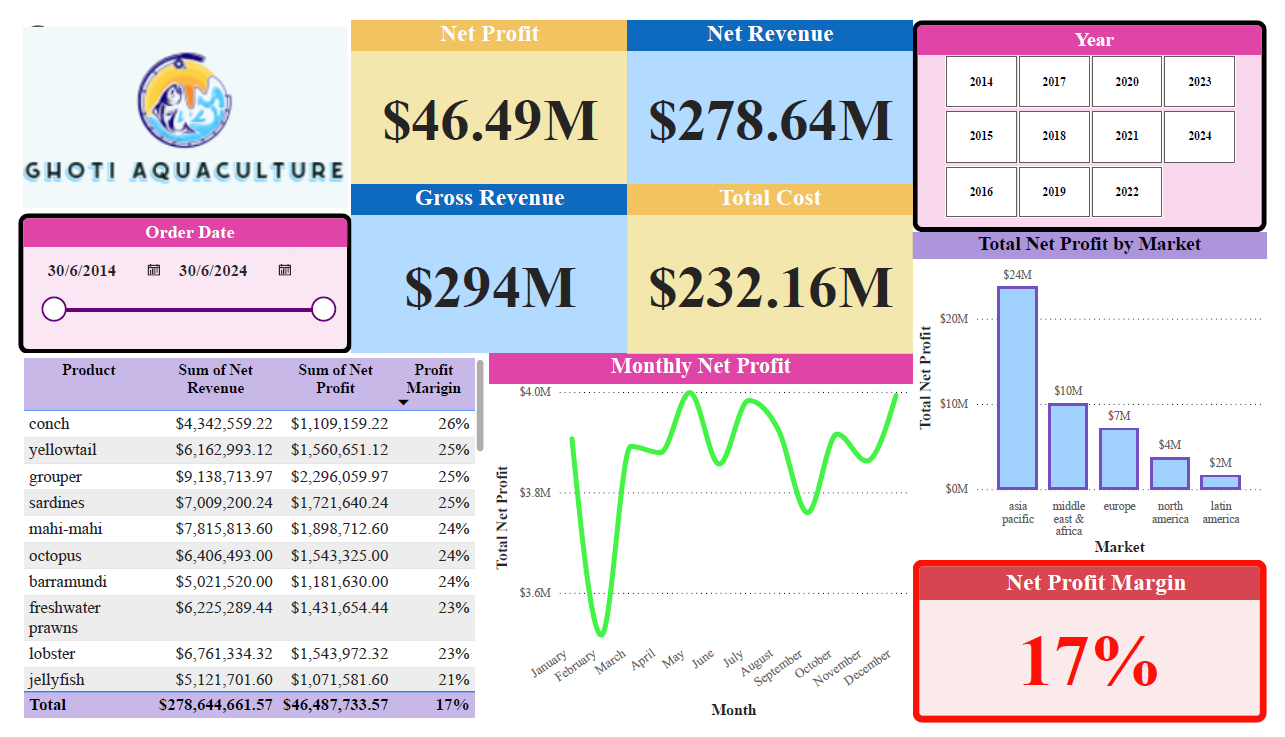

This screenshot's page, from the dashboard's own definition file:
{"tool":"powerbi","page":{"name":"Sales Performance","canvas":[1280,720],"ordinal":1},"visuals":[{"type":"slicer","title":"Order Date","fields":{"Values":["OrderDate.Date"]},"box":[0,198.3,341.7,143.3],"z":0},{"type":"actionButton","box":[0,0,100,40],"z":1000},{"type":"slicer","title":"Year","fields":{"Values":["OrderDate.Year"]},"box":[916.7,0,363.3,216.7],"z":2000},{"type":"card","title":"Net Profit","fields":{"Values":["Sum(orderdata.totalNettProfit)"]},"box":[341.7,0,283.3,168.3],"z":3000},{"type":"card","title":"Net Revenue","fields":{"Values":["Sum(orderdata.nettRevenue)"]},"box":[625,0,291.7,168.3],"z":4000},{"type":"card","title":"Net Profit Margin","fields":{"Values":["orderdata.Profit Marigin"]},"box":[916.7,553.3,363.3,166.7],"z":5000},{"type":"card","title":"Gross Revenue","fields":{"Values":["Sum(orderdata.grossRevenue)"]},"box":[341.7,168.3,283.3,173.3],"z":6000},{"type":"tableEx","fields":{"Values":["productdata.product","Sum(orderdata.nettRevenue)","Sum(orderdata.NettProfit)","orderdata.Profit Marigin"]},"box":[0,341.7,483.3,378.3],"z":7000},{"type":"image","box":[0,0,341.7,198.3],"z":8000},{"type":"clusteredColumnChart","title":"Total Net Profit by Market","fields":{"Category":["country.market"],"Y":["Sum(orderdata.NettProfit)"]},"box":[916.7,216.7,363.3,336.7],"z":9000},{"type":"lineChart","title":"Monthly Net Profit","fields":{"Y":["Sum(orderdata.NettProfit)"],"Category":["OrderDate.Date.Variation.Date Hierarchy.Month"]},"box":[483.3,341.7,433.3,378.3],"z":10000},{"type":"card","title":"Total Cost","fields":{"Values":["Sum(orderdata.totalCost)"]},"box":[625,168.3,291.7,173.3],"z":11000}]}

Visuals, with their boxes in screenshot pixels (x1, y1, x2, y2), scaled from the page's 1280x720 canvas onto the 1285x737 screenshot:
"Order Date" slicer: (x1=0, y1=203, x2=343, y2=350)
actionButton: (x1=0, y1=0, x2=100, y2=41)
"Year" slicer: (x1=920, y1=0, x2=1284, y2=222)
"Net Profit" card: (x1=343, y1=0, x2=627, y2=172)
"Net Revenue" card: (x1=627, y1=0, x2=920, y2=172)
"Net Profit Margin" card: (x1=920, y1=566, x2=1284, y2=736)
"Gross Revenue" card: (x1=343, y1=172, x2=627, y2=350)
tableEx - productdata.product x Sum(orderdata.nettRevenue): (x1=0, y1=350, x2=485, y2=736)
image: (x1=0, y1=0, x2=343, y2=203)
"Total Net Profit by Market" clusteredColumnChart: (x1=920, y1=222, x2=1284, y2=566)
"Monthly Net Profit" lineChart: (x1=485, y1=350, x2=920, y2=736)
"Total Cost" card: (x1=627, y1=172, x2=920, y2=350)
